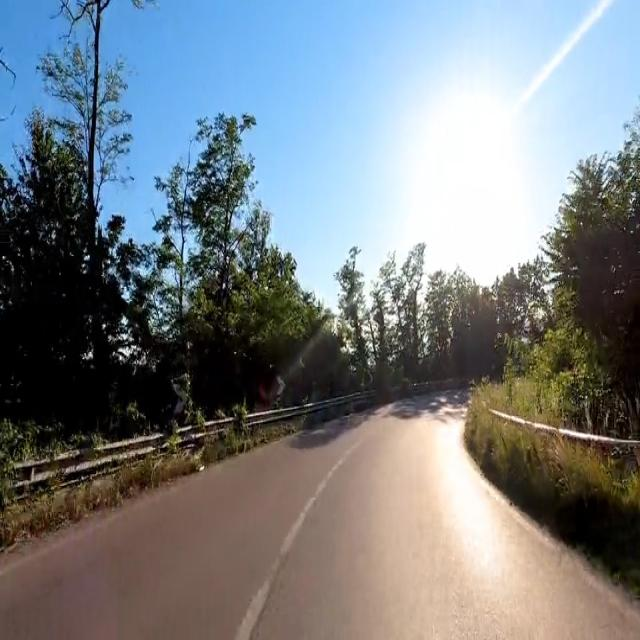lane: (235, 440, 361, 639)
road: (0, 391, 639, 638)
